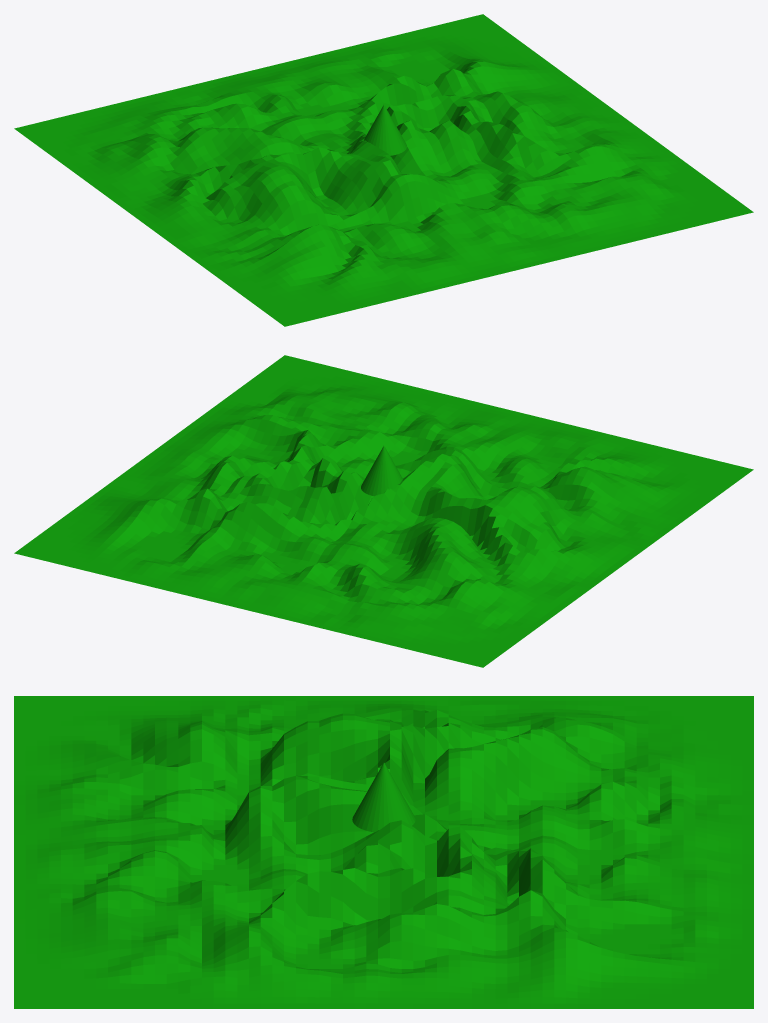
The model's file is world.obj.
3 views of the same model, one above another, from view 1: azimuth 30°, elevation 25°; view 2: azimuth 150°, elevation 25°; view 3: azimuth 270°, elevation 25° (orthographic). The views are drawn at different scales.
Visible parts, largest first — view 1: Landscape, Cone; view 2: Landscape, Cone; view 3: Landscape, Cone.
Part boxes in pixels (x1,y1,x2,y2): Landscape: (14,14,753,326); Cone: (364,105,406,155); Landscape: (14,355,753,667); Cone: (361,446,402,496); Landscape: (14,696,753,1008); Cone: (352,763,415,832).
Size of the model in its own units: 50 by 6.73 by 50.
